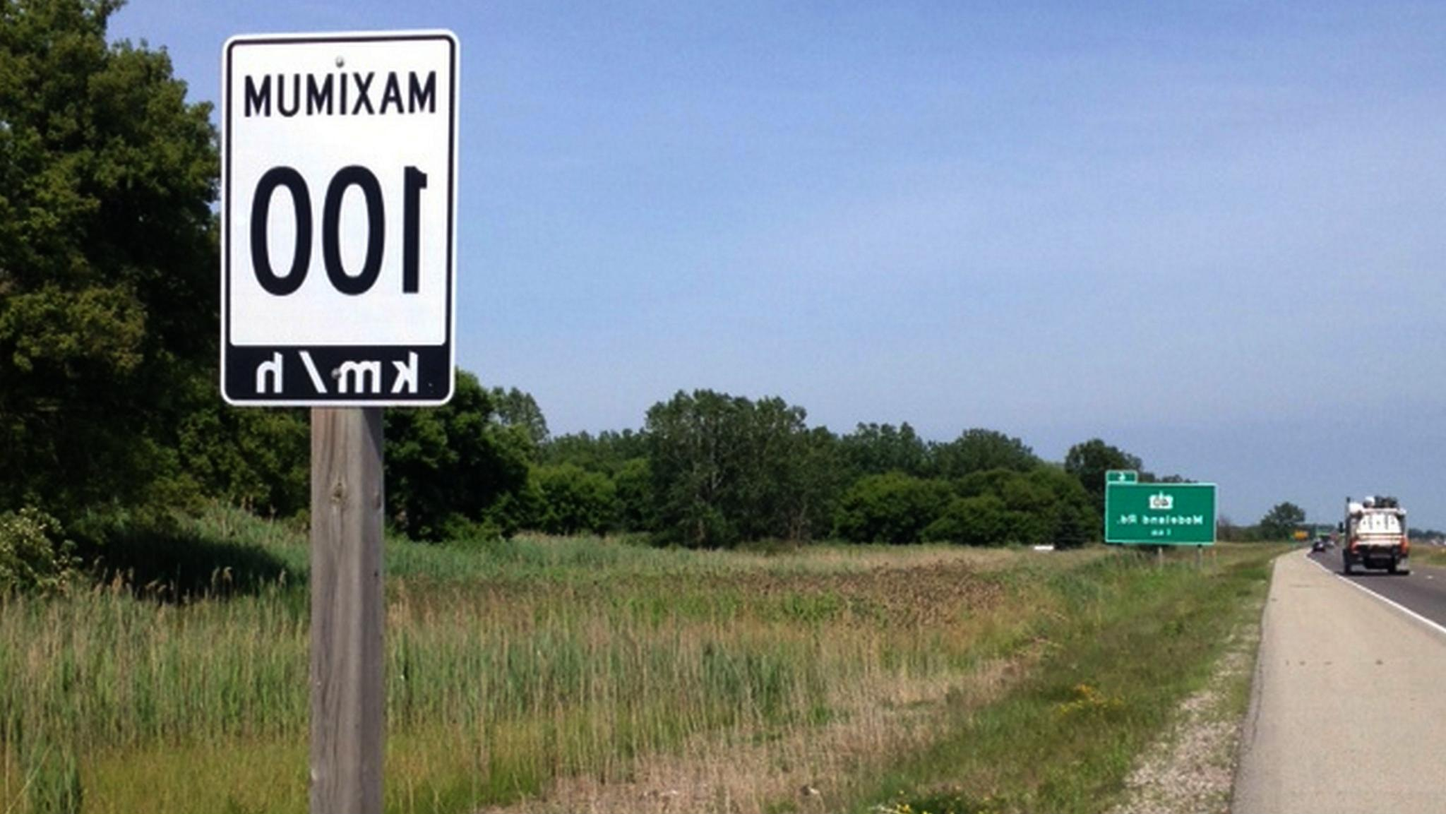speed limit sign: (215, 29, 464, 407)
